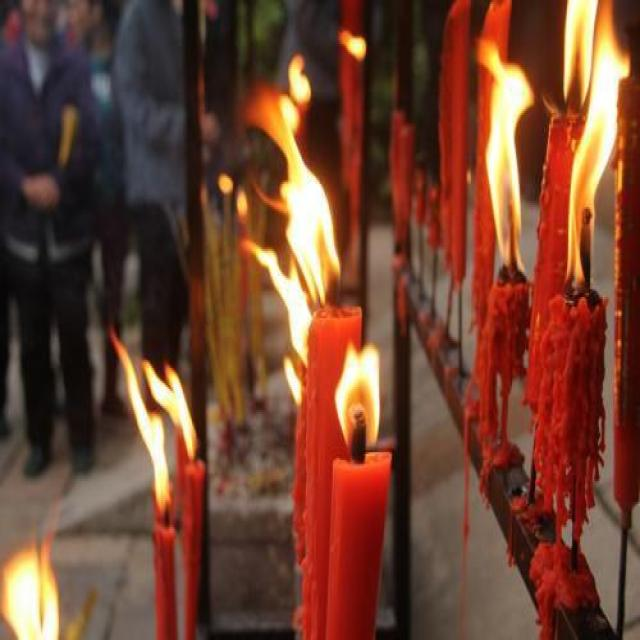fire: (249, 49, 344, 305), (107, 316, 215, 509), (469, 41, 534, 278), (559, 5, 608, 292), (250, 238, 307, 394), (4, 521, 67, 635), (331, 341, 386, 447)
